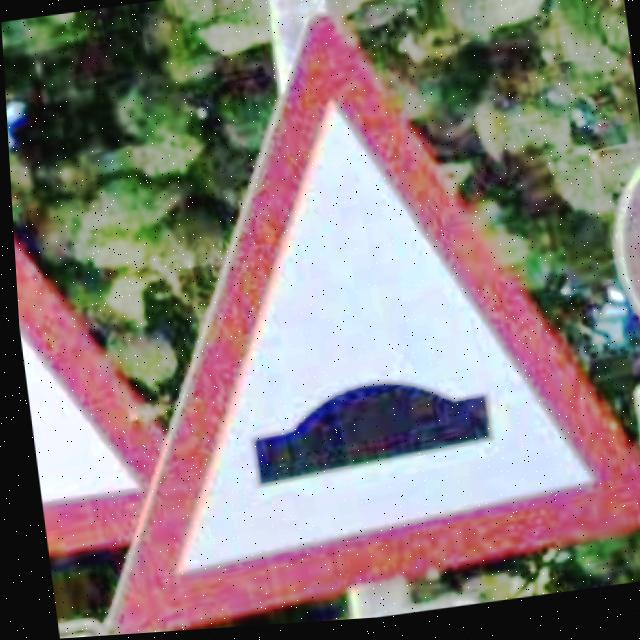hump: (102, 17, 640, 636)
